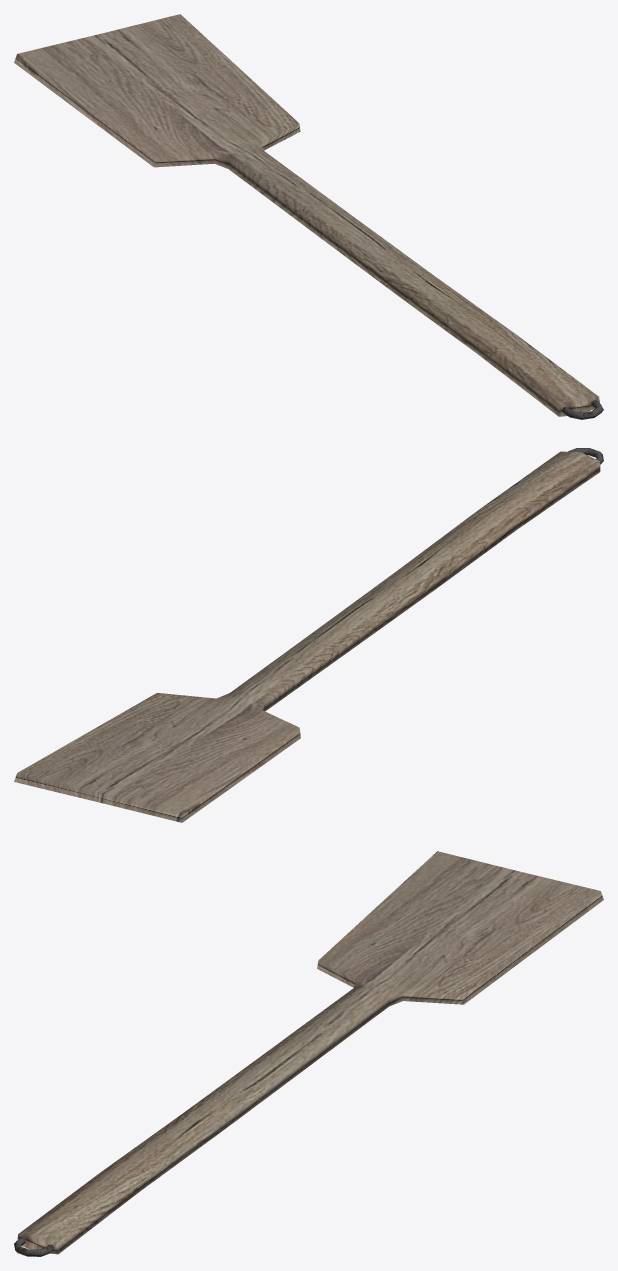
File: SM_KitchenwareD.FBX
3 renders of one model, top to bottom at view 1: azimuth 30°, elevation 25°; view 2: azimuth 150°, elevation 25°; view 3: azimuth 330°, elevation 25°, orthographic.
Visible parts, largest first — view 1: SM_KitchenwareD; view 2: SM_KitchenwareD; view 3: SM_KitchenwareD.
Boxes of the visible parts, box(x1,y1,x2,y2) form: SM_KitchenwareD: box(14, 14, 603, 419); SM_KitchenwareD: box(14, 448, 603, 822); SM_KitchenwareD: box(14, 851, 603, 1256).
Bounding box in the file's own units: 6.74 × 1.09 × 34.42.
